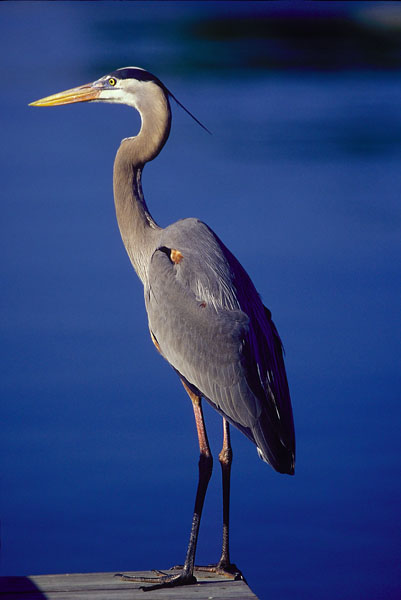heron: (19, 58, 300, 593)
